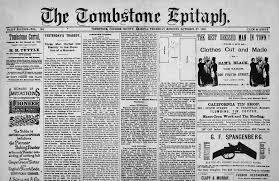Printing industry: (2, 2, 279, 181)
